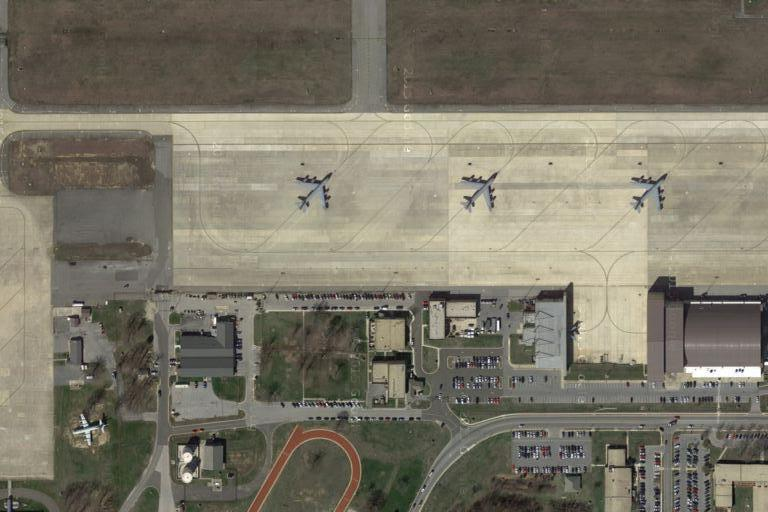KC-135: (627, 172, 668, 219), (457, 170, 499, 213), (293, 170, 332, 215)
